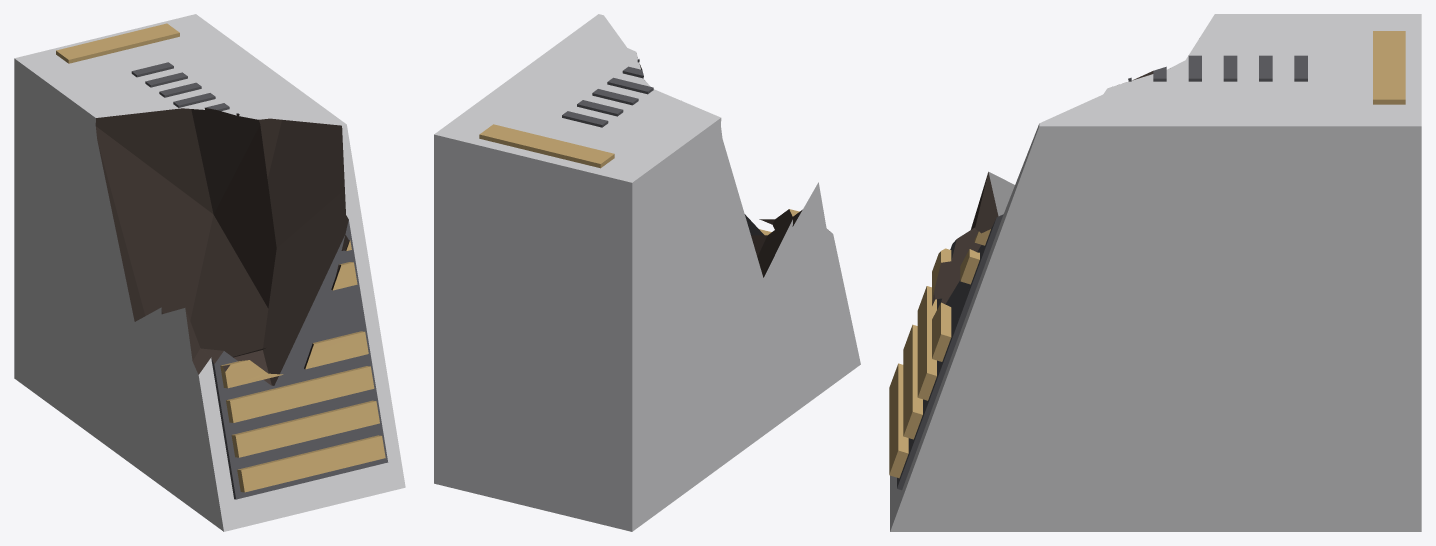
The model's file is vge_d_smallthruster.obj.
The picture shows the model from 3 angles, left to right: view 1: azimuth 30°, elevation 25°; view 2: azimuth 150°, elevation 25°; view 3: azimuth 270°, elevation 25°; orthographic projection. The views are drawn at different scales.
Visible parts, largest first — view 1: vge_d_smallthruster; view 2: vge_d_smallthruster; view 3: vge_d_smallthruster.
Part boxes in pixels (x1=…): vge_d_smallthruster: x1=14, y1=14, x2=405, y2=531; vge_d_smallthruster: x1=434, y1=14, x2=860, y2=531; vge_d_smallthruster: x1=889, y1=14, x2=1421, y2=531.
Size of the model in its own units: 0.98 by 1.67 by 1.96.
